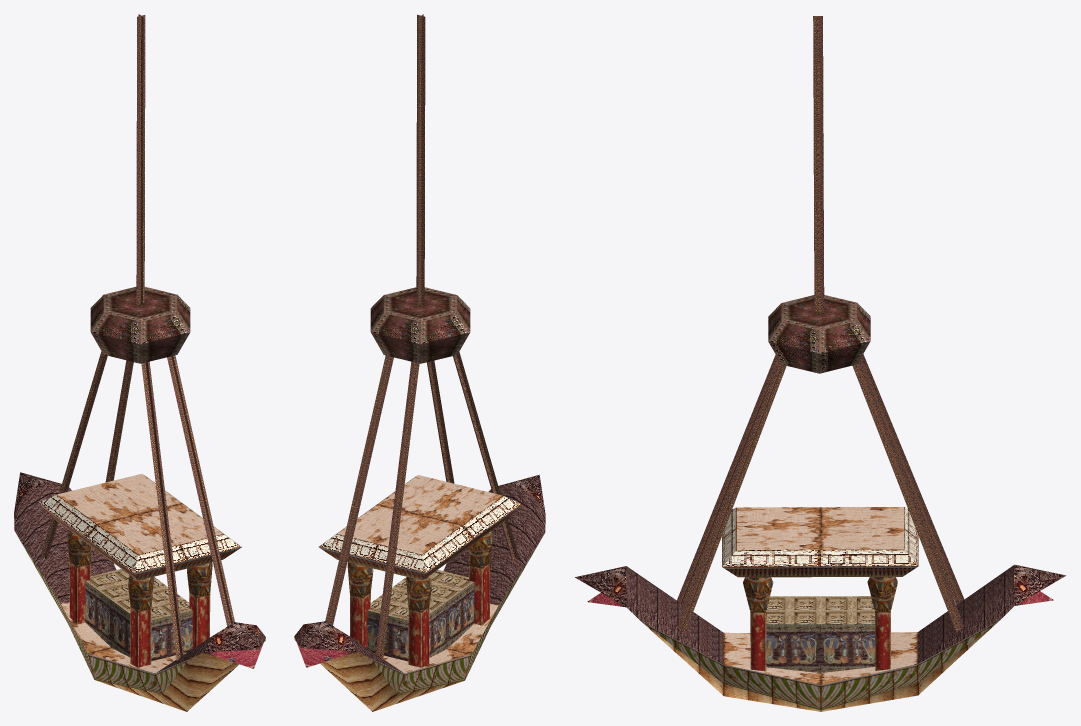
The model's file is Ship.obj.
The picture shows the model from 3 angles, left to right: view 1: azimuth 30°, elevation 25°; view 2: azimuth 150°, elevation 25°; view 3: azimuth 270°, elevation 25°; orthographic projection. The views are drawn at different scales.
Bounding box in the file's own units: 261 × 1559 × 1000.
Materials: 12 (12 with a texture image).
